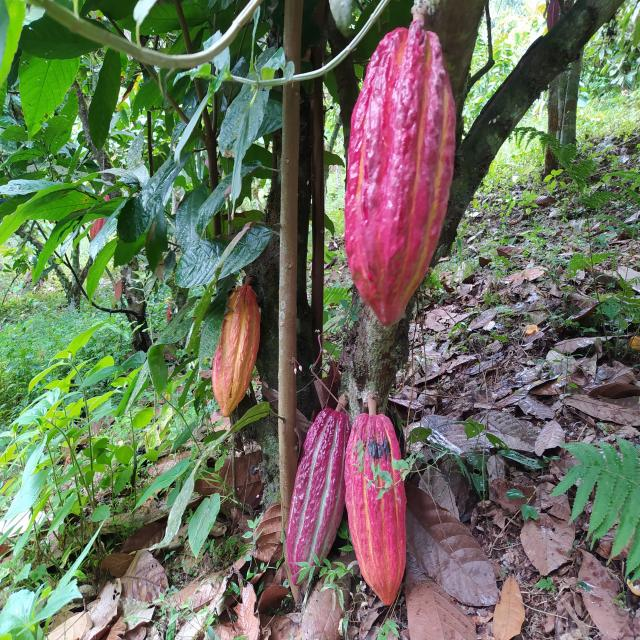Fitoftora: (344, 408, 408, 606)
Sana: (342, 26, 458, 330), (286, 407, 352, 588), (210, 284, 262, 416)
